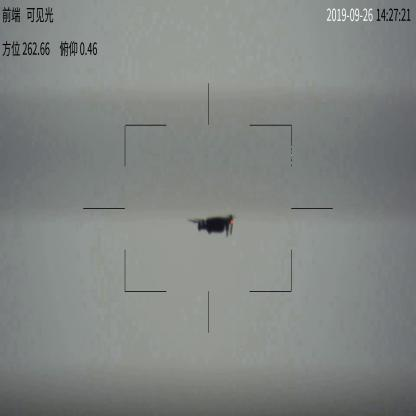uav: (188, 212, 241, 238)
